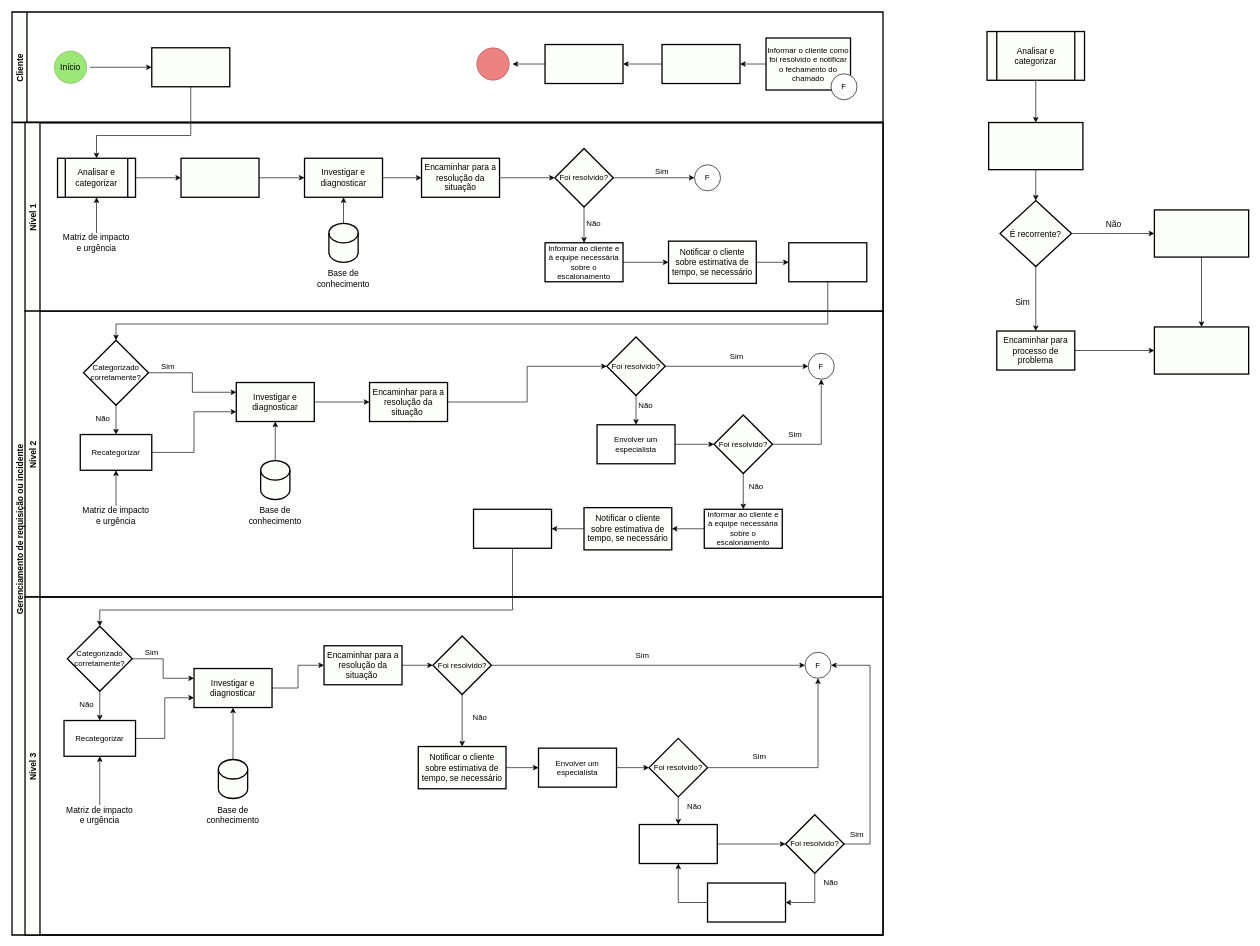
This 1260x946 diagram has some shape labels left out. Each missing label, with the centre of its shape:
"Abrir um chamado" goes at [190,67].
"Categorizar a prioridade" goes at [1201,350].
"Central de Serviços de TI" goes at [1035,146].
"Encaminhar para o Nível 2" goes at [827,262].
"Encaminhar para o Nível 3" goes at [512,528].
"Encaminhar para uma solução personalizada" goes at [678,844].
"Fechar o chamado" goes at [700,64].
"Fim" goes at [492,63].
"Informar ao cliente sobre o acontecimento" goes at [746,902].
"Processo de requisição ou incidente" goes at [1201,233].
"Registrar o ocorrido" goes at [219,177].
"Verificar se é necessário atualizar a base de conhecimento" goes at [583,64].
